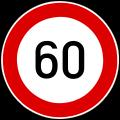Speed Limit -60-: (29, 34, 86, 86)
